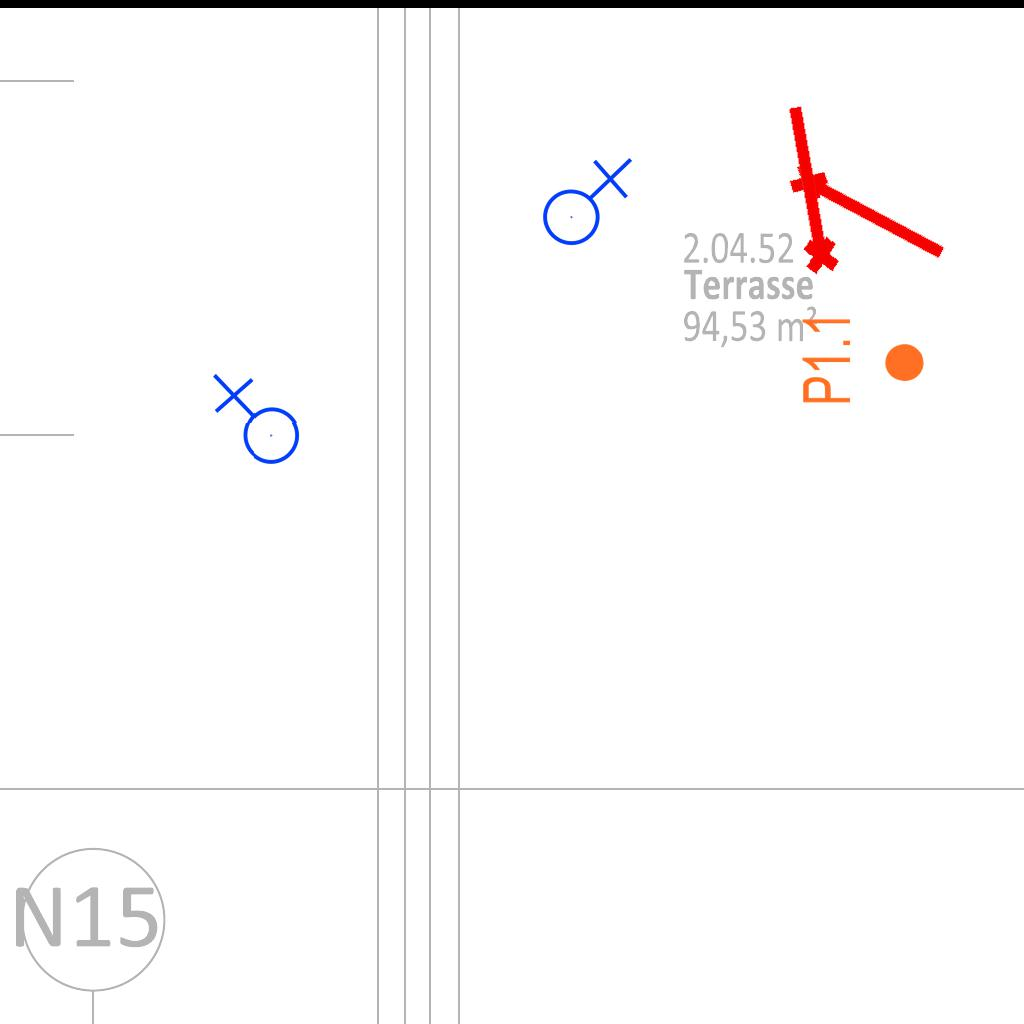ASR_Ansaugoeffnung: (781, 150, 959, 274), (769, 98, 845, 280)
Downlight_LED_Einbauleuchten_Flur: (799, 313, 927, 406)
Elektroanschluss_allgemein_230V_Geraeteanschlussdose_230V: (206, 372, 303, 474), (534, 153, 633, 247)
